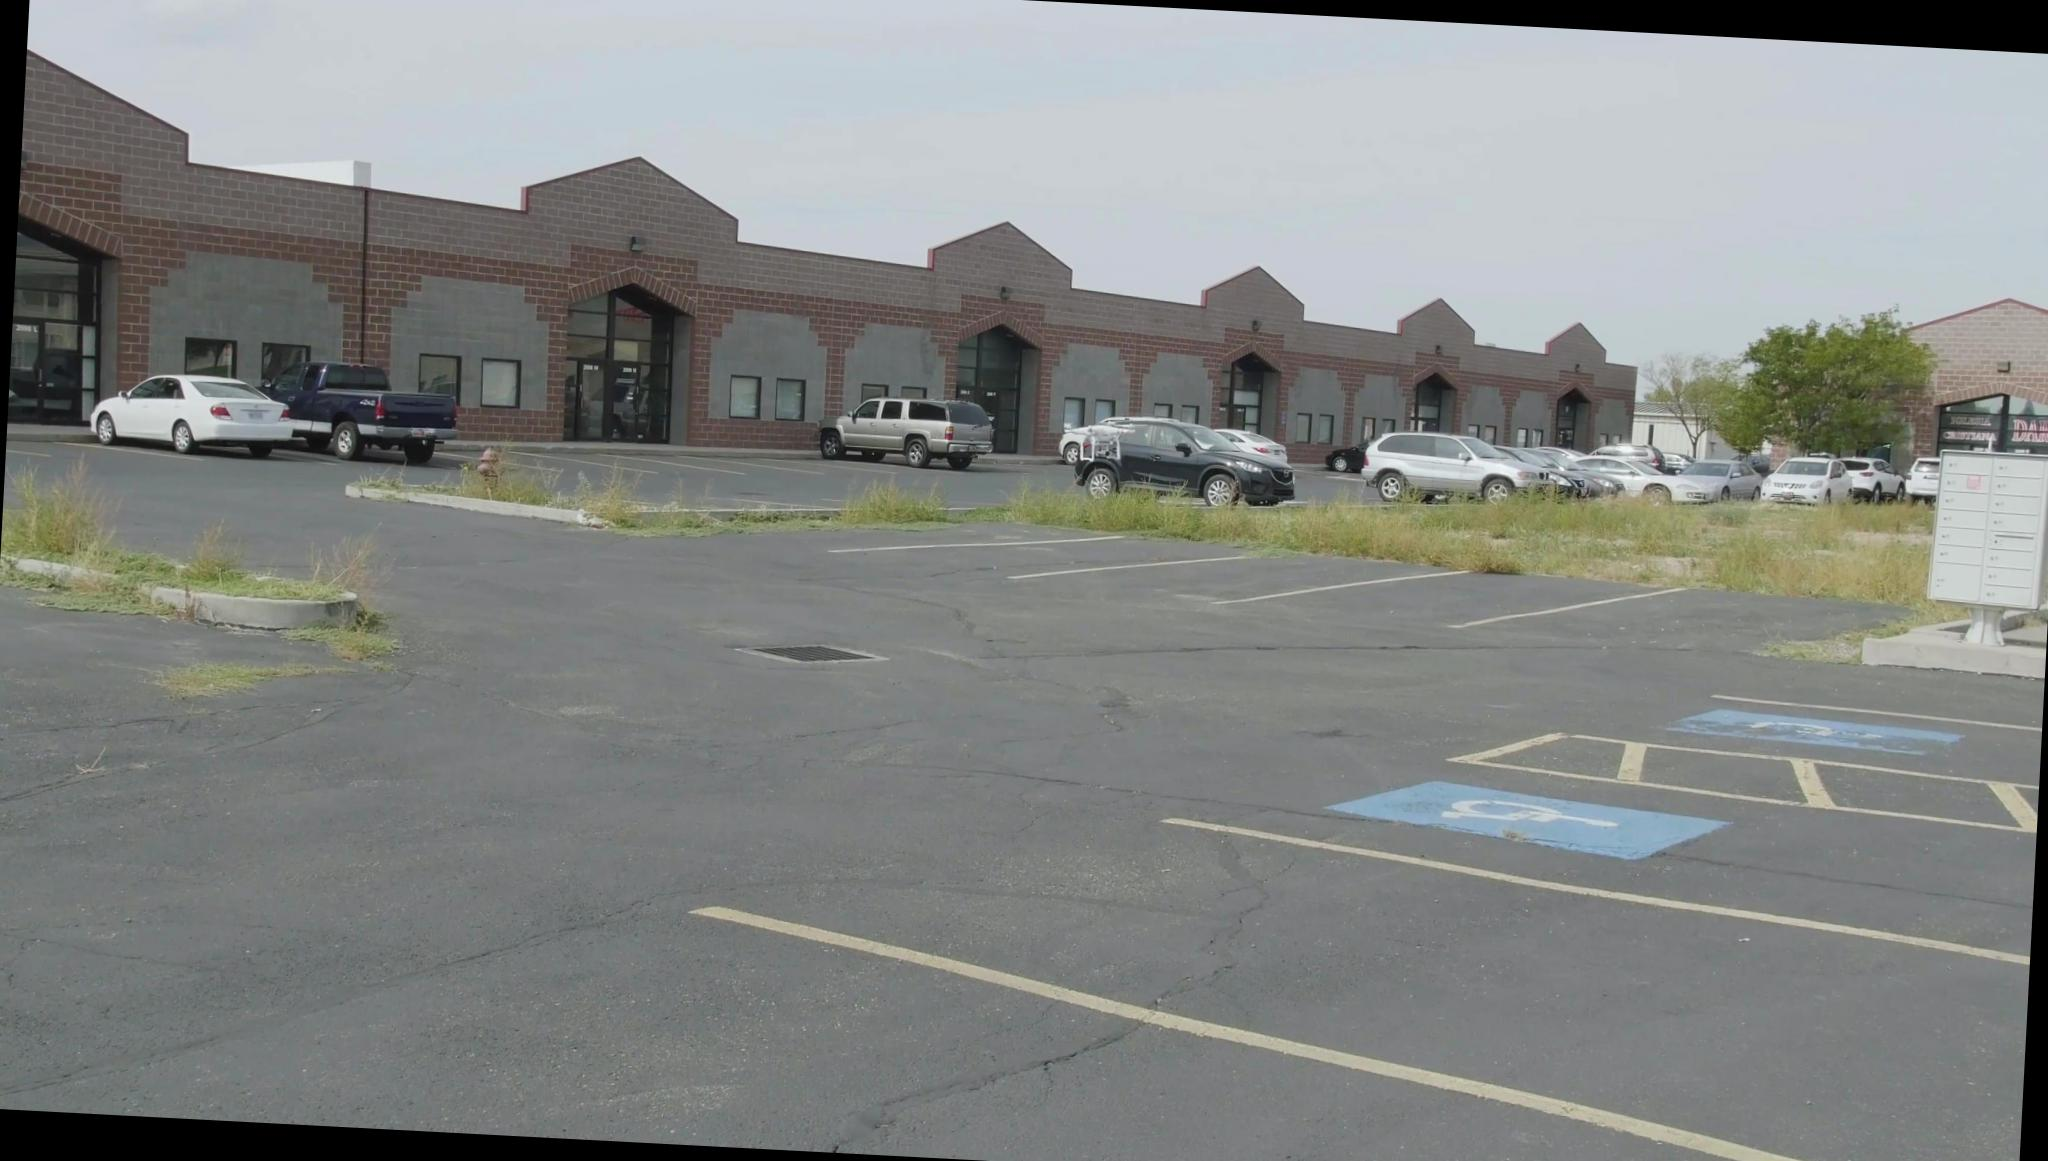drone: (1060, 417, 1136, 463)
